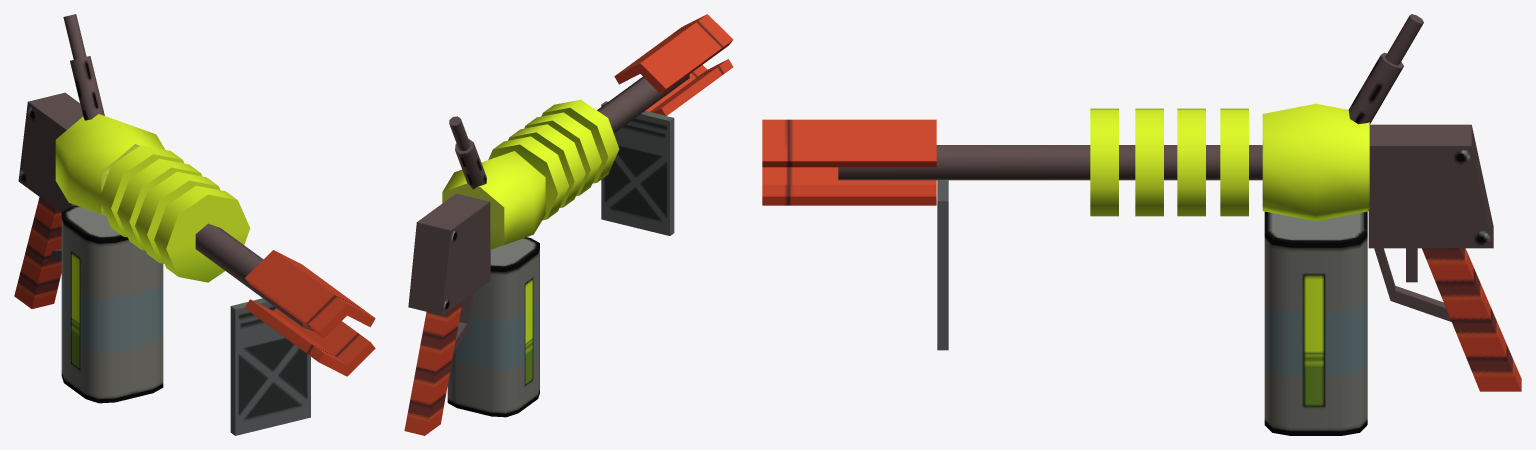
Rendered from Rifle.fbx.
The picture shows the model from 3 angles, left to right: view 1: azimuth 30°, elevation 25°; view 2: azimuth 150°, elevation 25°; view 3: azimuth 270°, elevation 25°; orthographic projection. The views are drawn at different scales.
Visible parts, largest first — view 1: rifle; view 2: rifle; view 3: rifle.
Boxes of the visible parts, x1,y1,x2,y2 form: rifle: (14,14,375,435); rifle: (404,14,733,435); rifle: (762,14,1521,435).
Size of the model in its own units: 1.16 by 4.28 by 7.39.
1 material, 1 textured.
